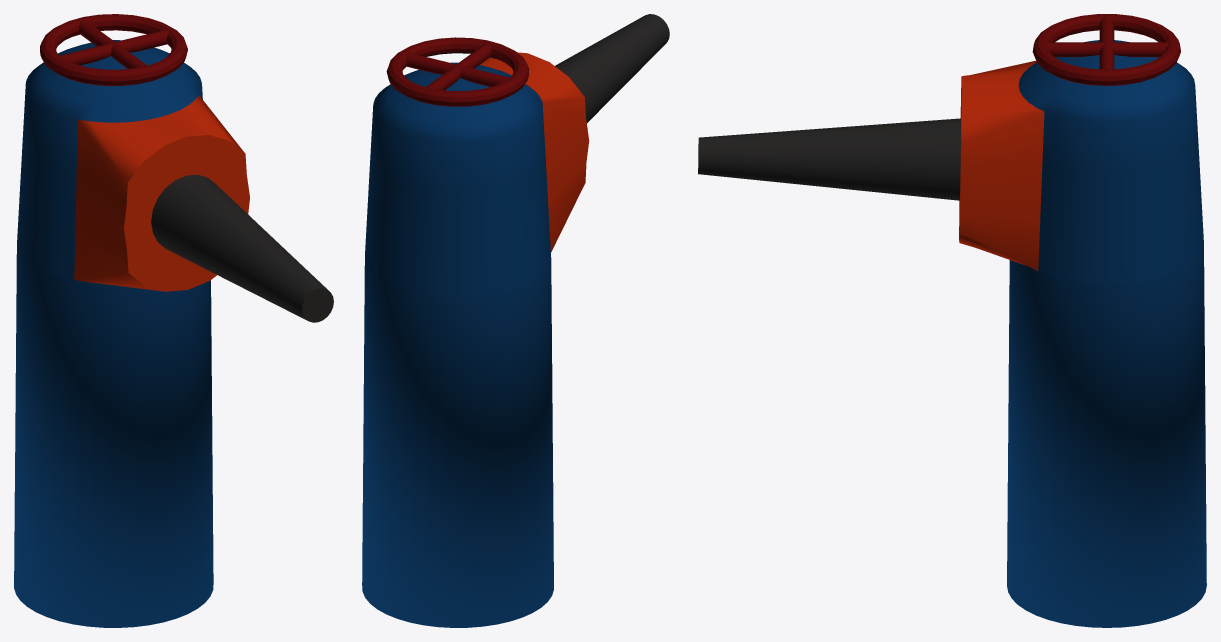
The model's file is msh_item_Blowtorch.fbx.
The picture shows the model from 3 angles, left to right: view 1: azimuth 30°, elevation 25°; view 2: azimuth 150°, elevation 25°; view 3: azimuth 270°, elevation 25°; orthographic projection. The views are drawn at different scales.
Visible parts, largest first — view 1: pCylinder5; view 2: pCylinder5; view 3: pCylinder5.
Boxes of the visible parts, bbox=[...] form: pCylinder5: bbox=[14, 14, 333, 627]; pCylinder5: bbox=[362, 14, 669, 627]; pCylinder5: bbox=[698, 14, 1206, 627].
Size of the model in its own units: 30.87 by 92.51 by 78.55.
